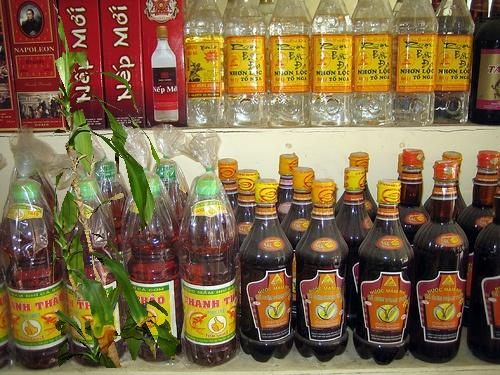tampered: (54, 5, 180, 368)
